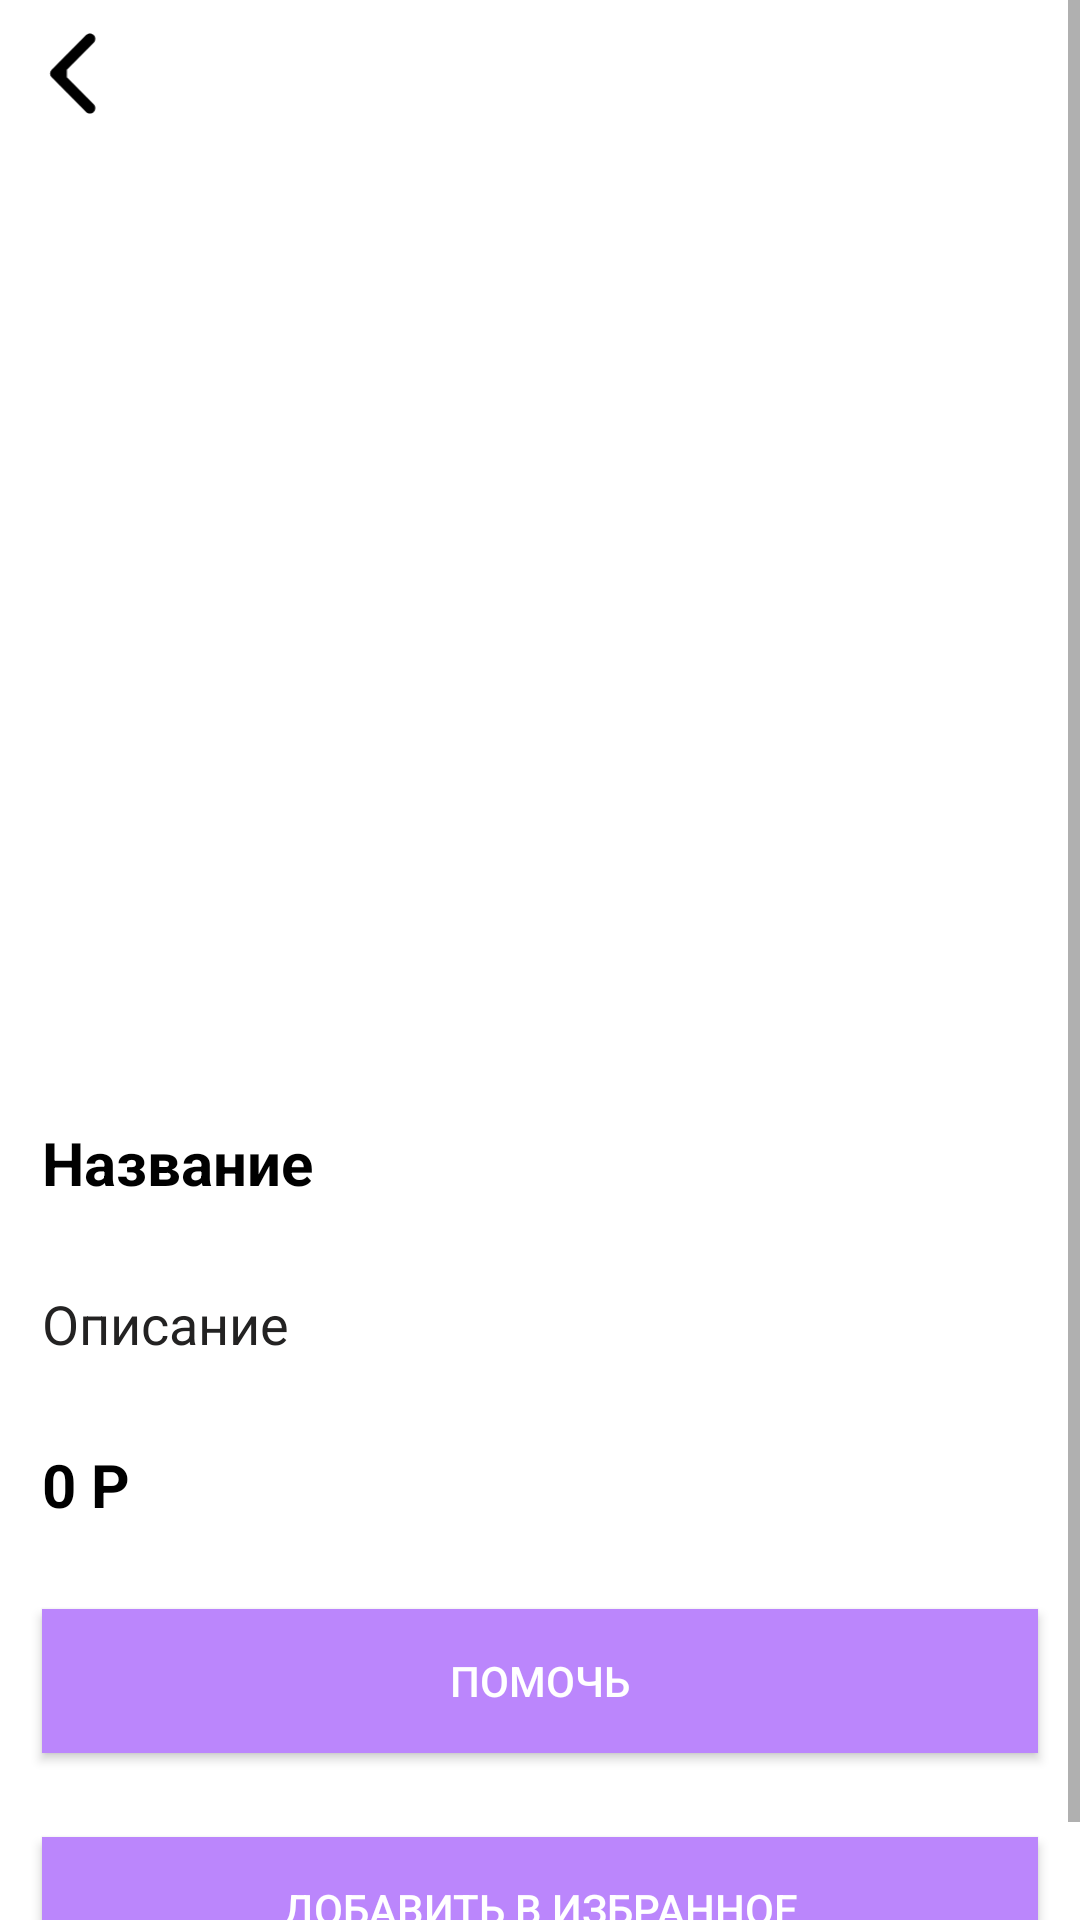

Where to tap for icons on this 1080w x 1920h app screen, as (x,y):
arrow: (72,73)
